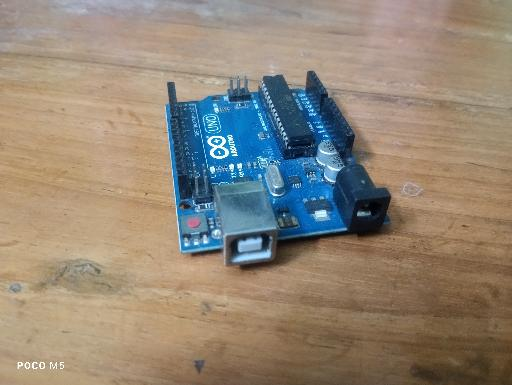Arduino: (164, 69, 391, 268)
